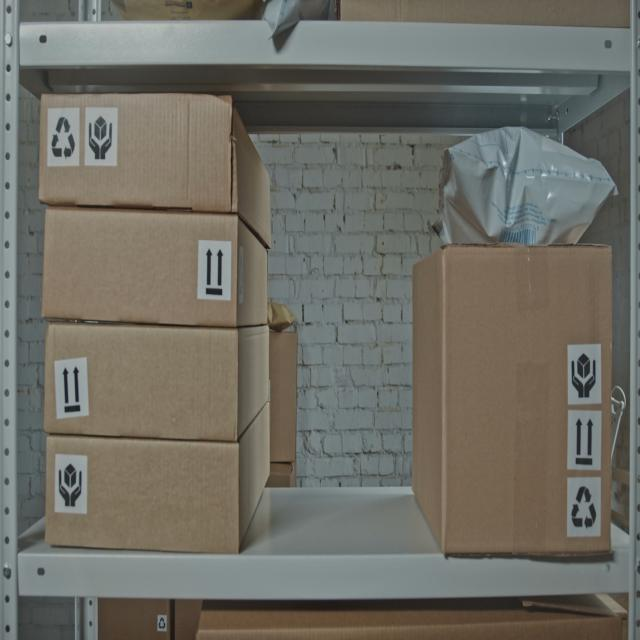counting-the-number-of-boxes: (412, 247, 612, 555), (39, 94, 272, 249), (45, 400, 271, 554), (41, 207, 268, 327), (44, 323, 270, 440), (270, 332, 298, 463), (265, 463, 296, 487)
